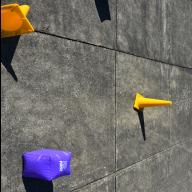cone: (0, 3, 34, 38), (133, 94, 171, 112)
cube: (21, 148, 71, 182)
